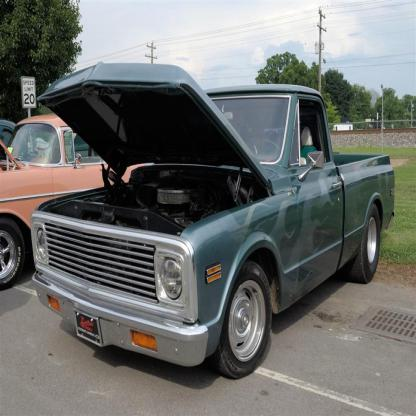Car: (31, 61, 395, 379), (0, 114, 154, 291), (0, 120, 32, 161)
Truck: (31, 61, 394, 379)
